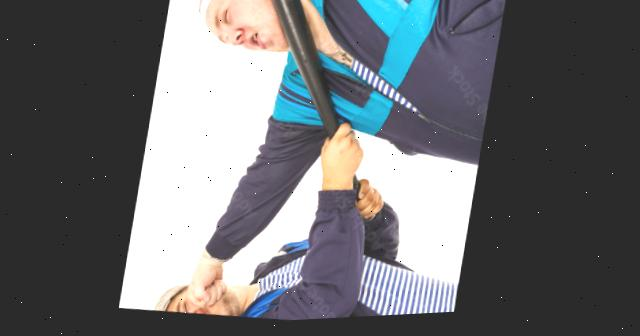baseball bat: (208, 0, 410, 234)
